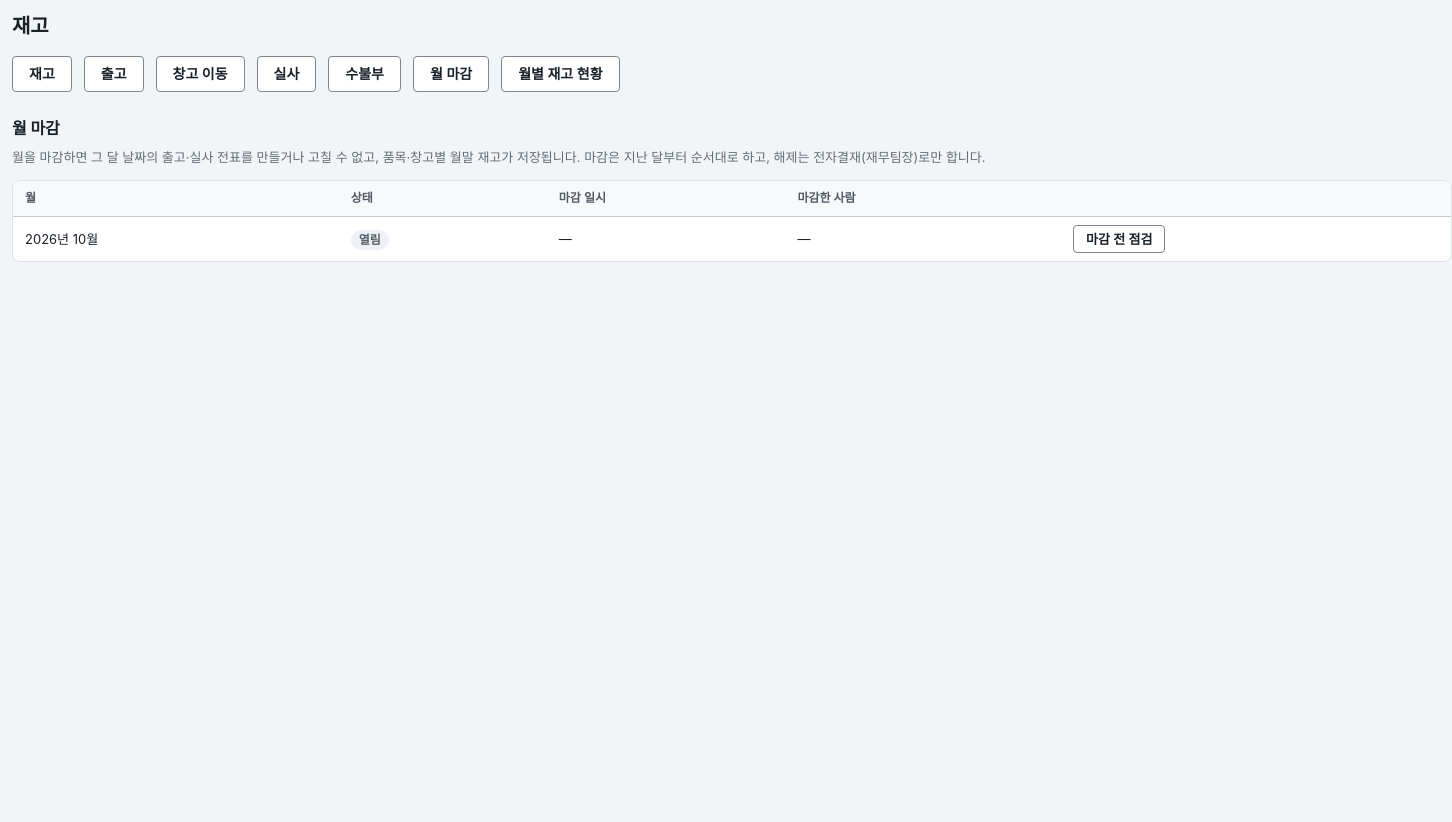
월 마감 화면(B27) › 점검 목록에서 차단과 경고를 나눠 보이고, 차단이 있으면 마감 단추가 꺼진다
The width and height of the screenshot is (1452, 822).
Step 1. Click the button with aria-label "2026년 10월 점검" → x=1119, y=239, box [1073,225,1165,253]
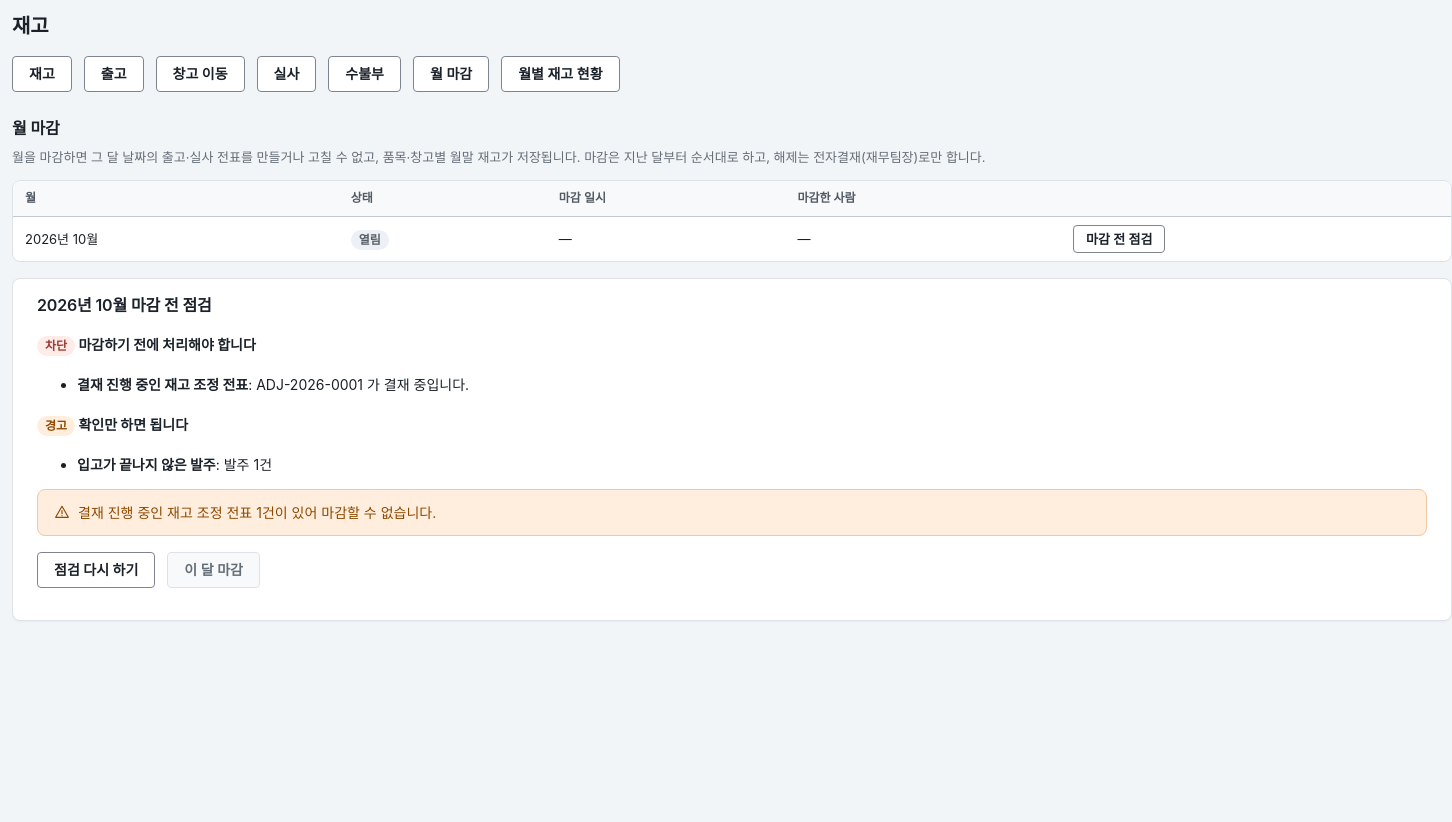
Expected: the text "차단" is shown, [37,336,75,356]
Expected: the text "경고" is shown, [37,416,75,436]
Expected: the list item "결재 진행 중인 재고 조정 전표: ADJ-2026-0001 가 결재 중입니다." is shown, [77,376,469,393]
